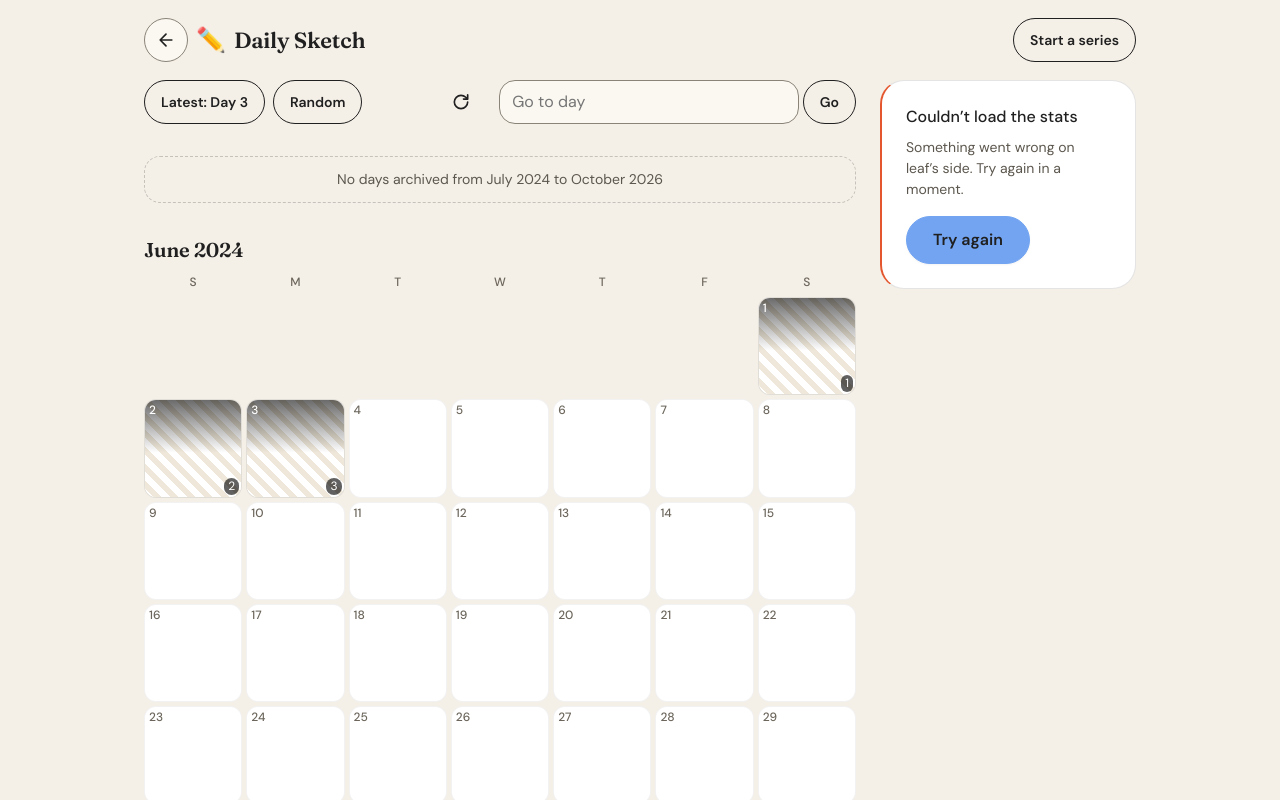
it: Home › offers Try again when the stats fail, and loads them again
This screenshot has width=1280, height=800.
Expected: the text "Couldn’t load the stats" is shown, [906,106,1078,127]
Click the button "Try again" at (968, 240), box [906,216,1030,264]
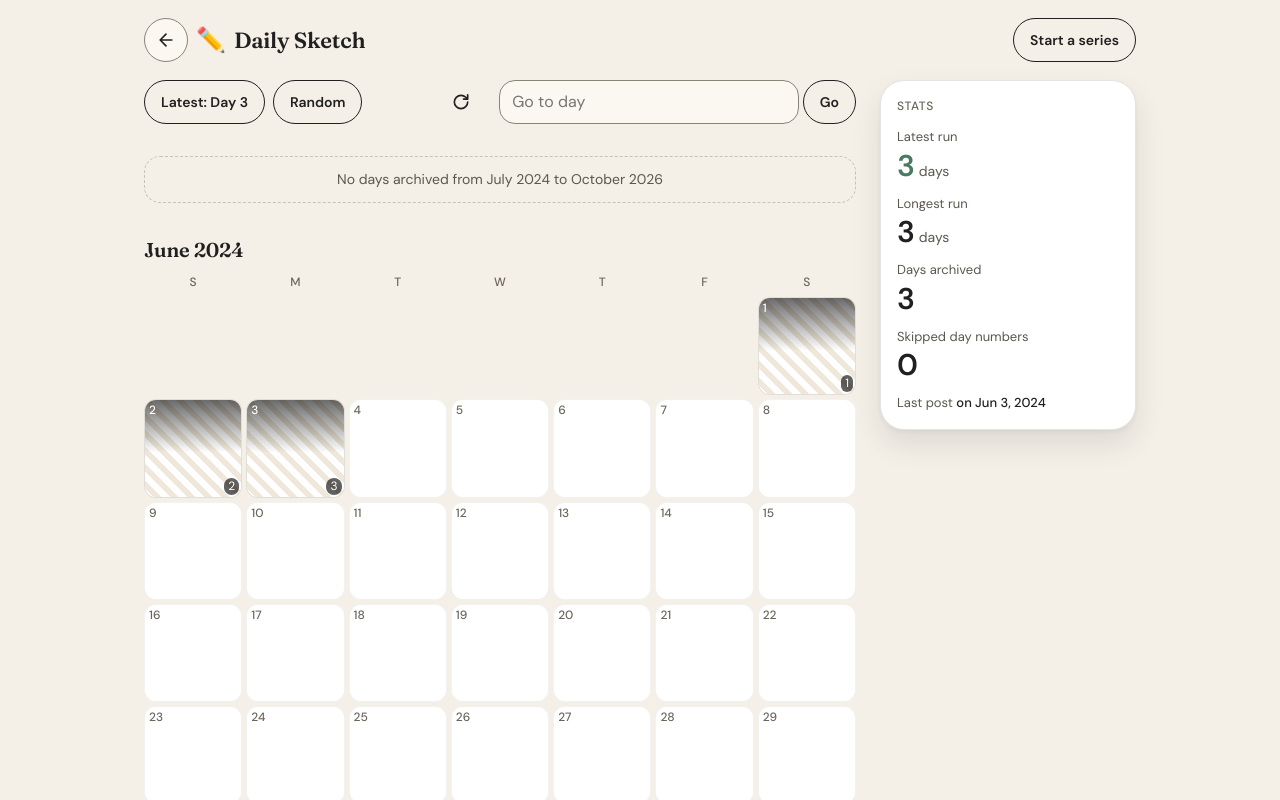
Expected: the text "Couldn’t load the stats" is gone
Expected: the text "Latest run" is shown, [897,128,958,145]
